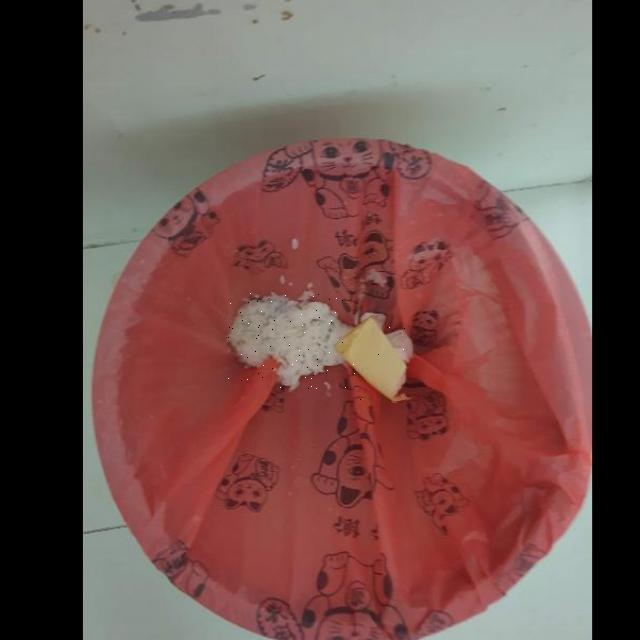biowaste: (228, 292, 343, 391)
paper: (334, 316, 407, 402)
